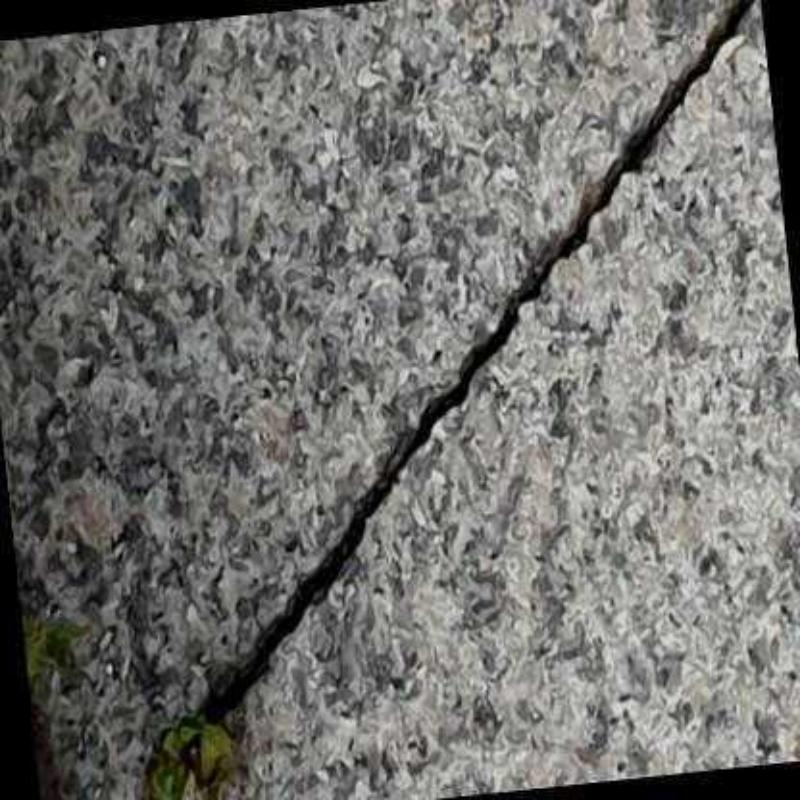pothole: (203, 0, 758, 729)
